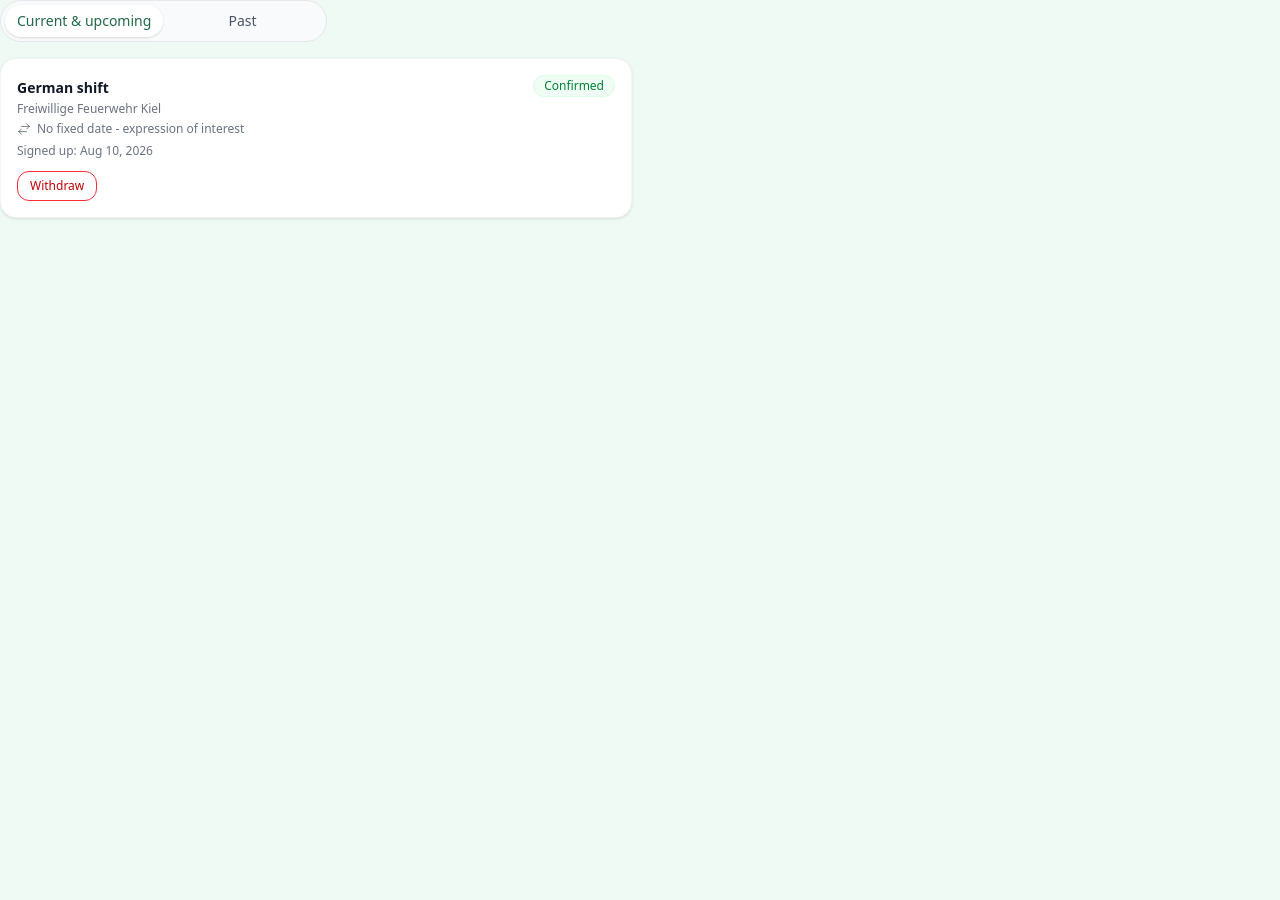
Test case: my-signups withdraw dialog reactivation budget (#2323) › states how many sign-ups are left before the limit
Click the button "Withdraw". click: (57, 186)
box: [17,171,97,201]
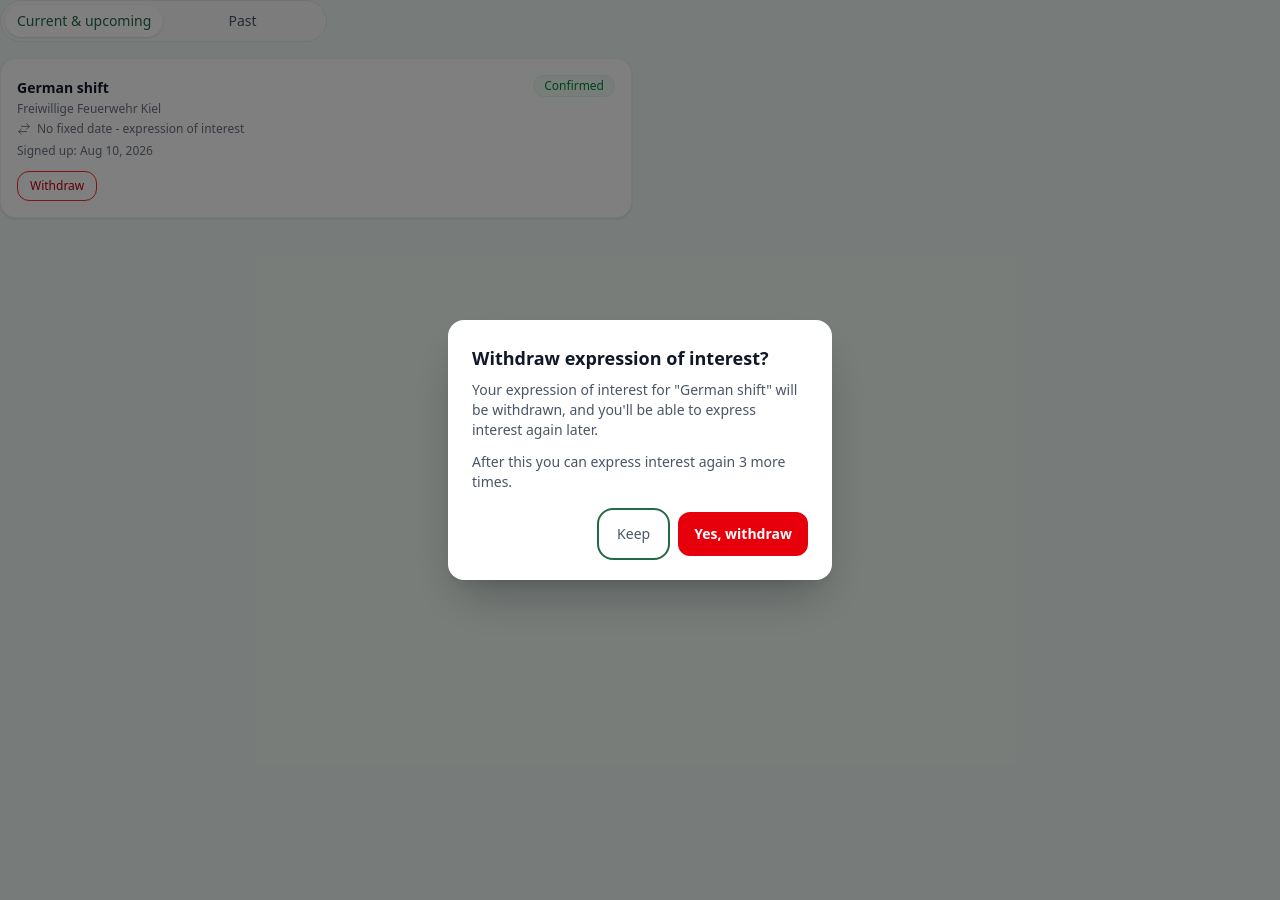
Now the text with test id "withdraw-remaining-reactivations" reads "After this you can express interest again 3 more times.", box [472,452,786,491]
